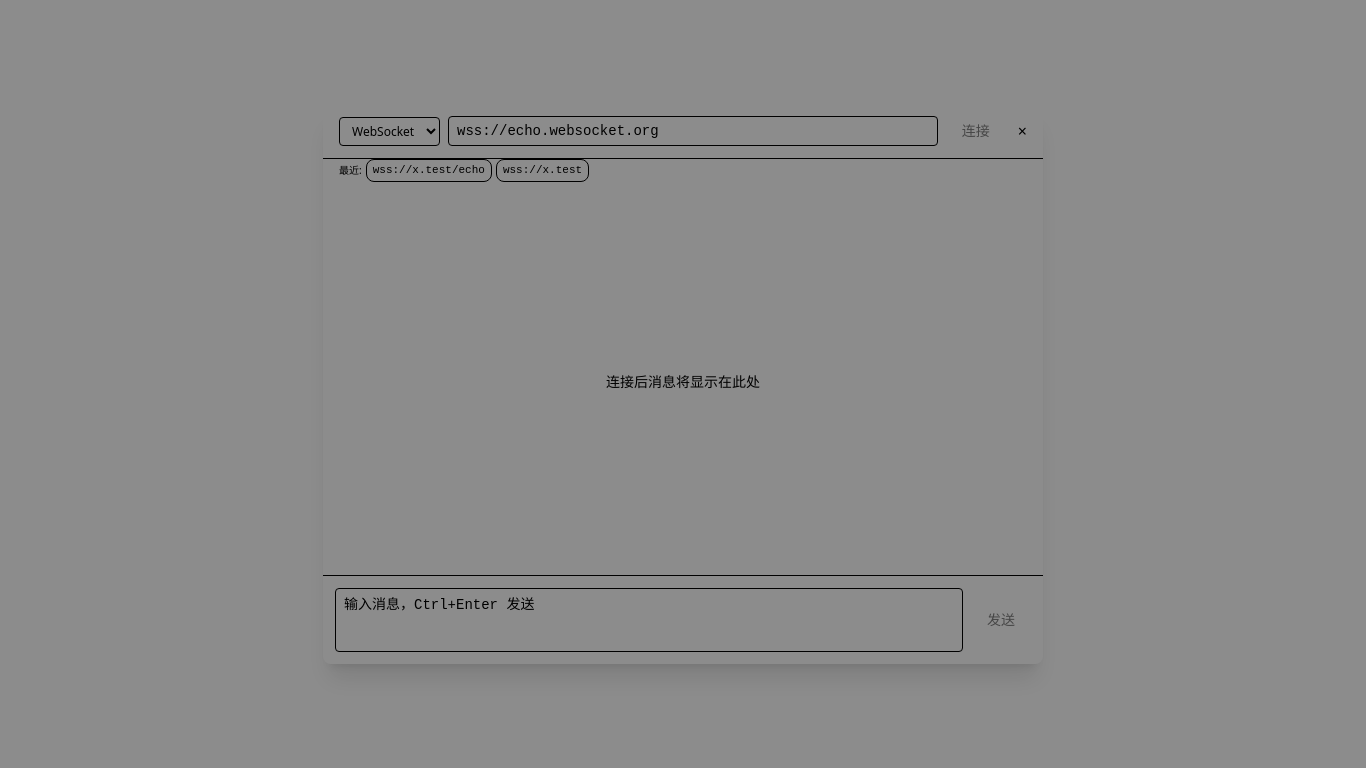
WsPanel connect lifecycle › guards against double connect while a connect is in flight
Type "wss://x.test/echo" into the field with placeholder "wss://echo.websocket.org".
click(693, 131); type("wss://x.test/echo")  # box top-left (448, 116), bottom-right (938, 146)
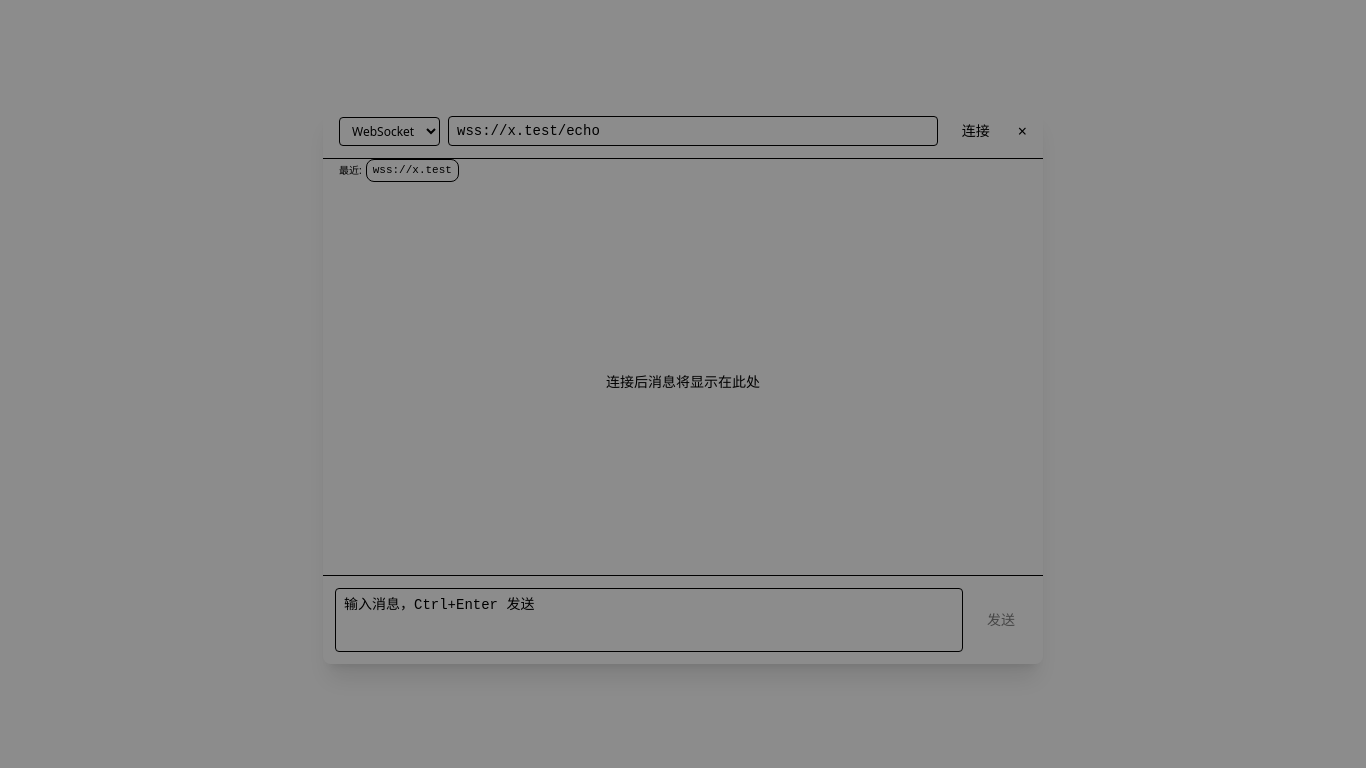
# 持有同一按钮元素连点两次：模拟 pending 窗口内的双击（fireEvent 会 flush 状态）
Click the button "连接".
click(976, 131)  # box top-left (946, 117), bottom-right (1006, 145)
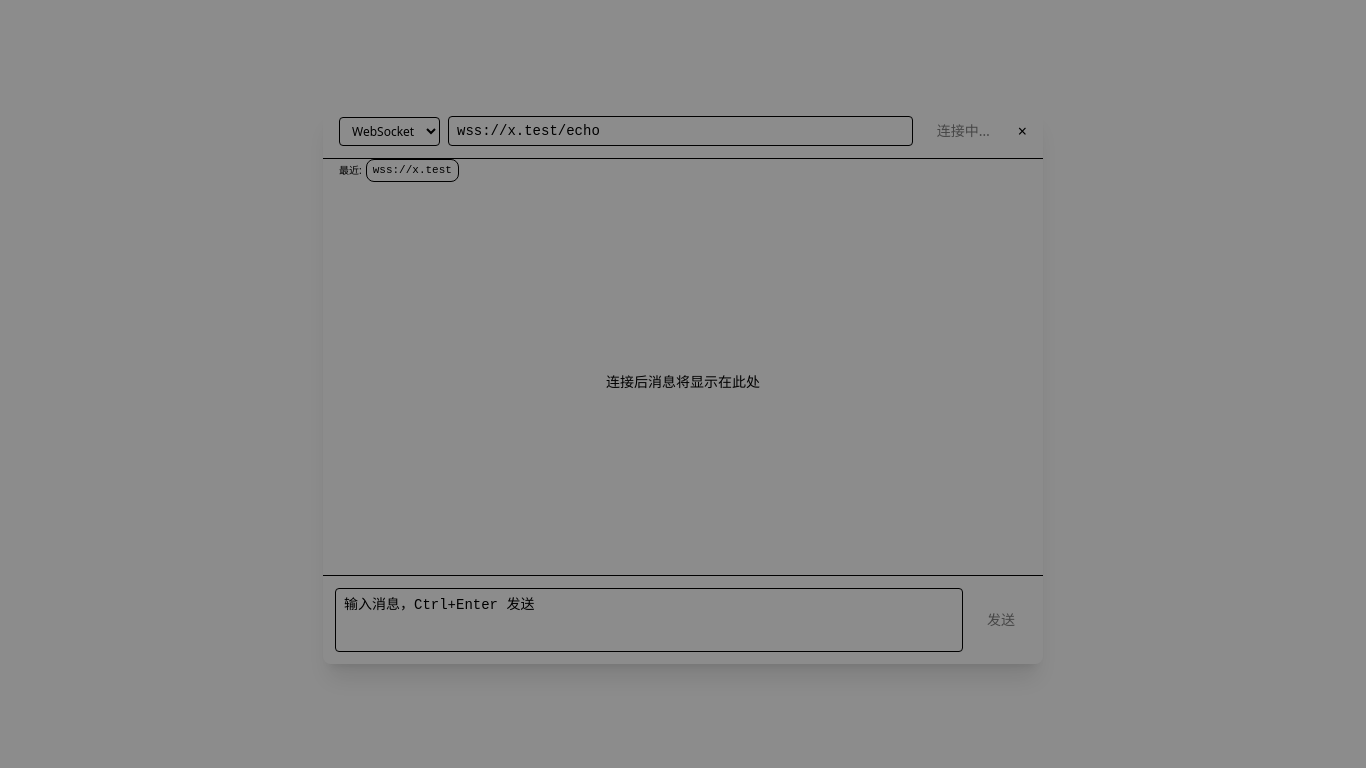
Click the button "连接中…".
click(963, 131)  # box top-left (921, 117), bottom-right (1006, 145)
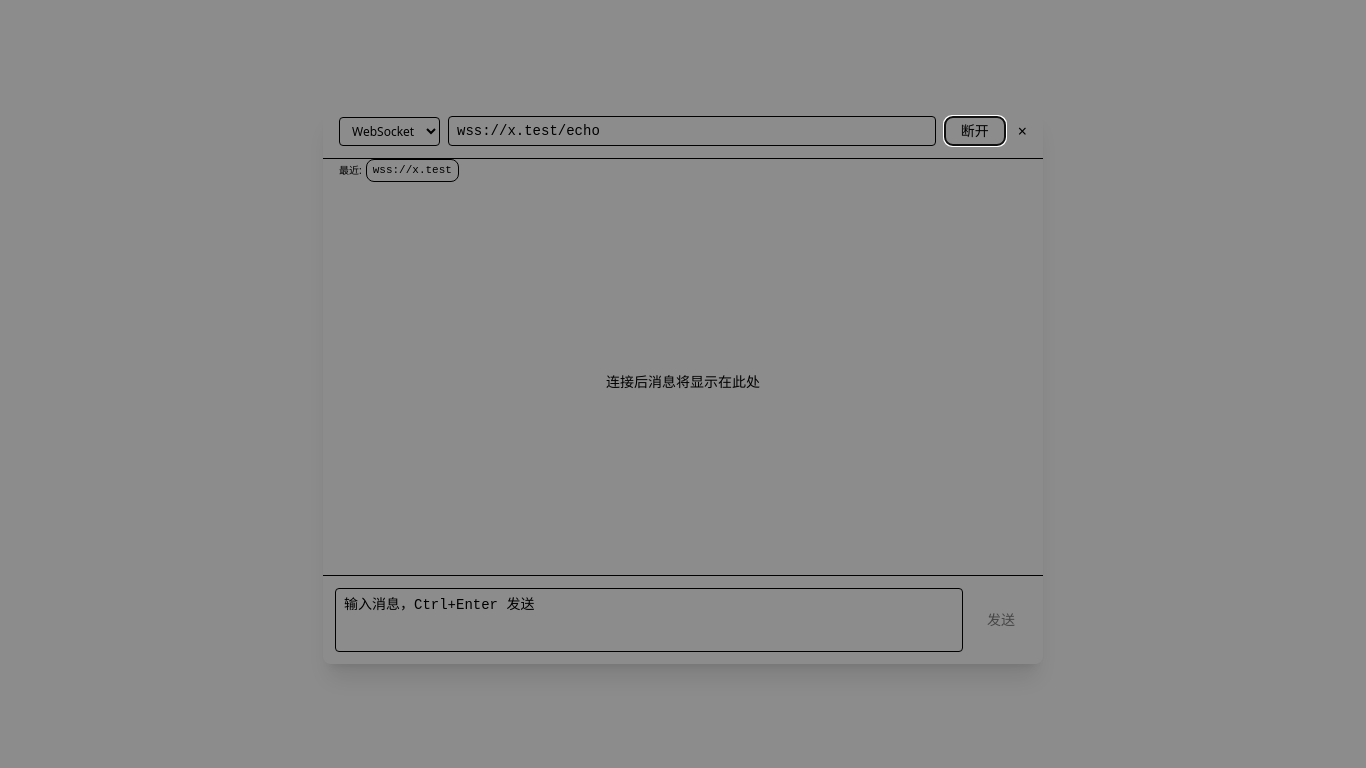
Now the button "断开" is shown, box top-left (944, 116), bottom-right (1006, 146)
